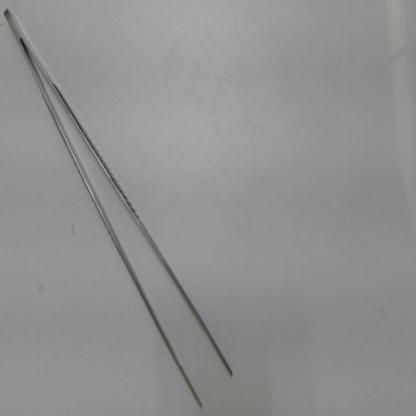DeBakey Dissector: (0, 2, 261, 411)
